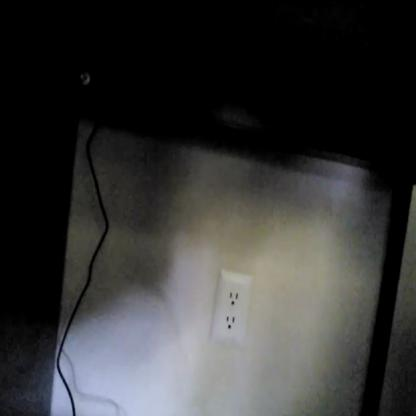OUTLET: (213, 269, 251, 349)
